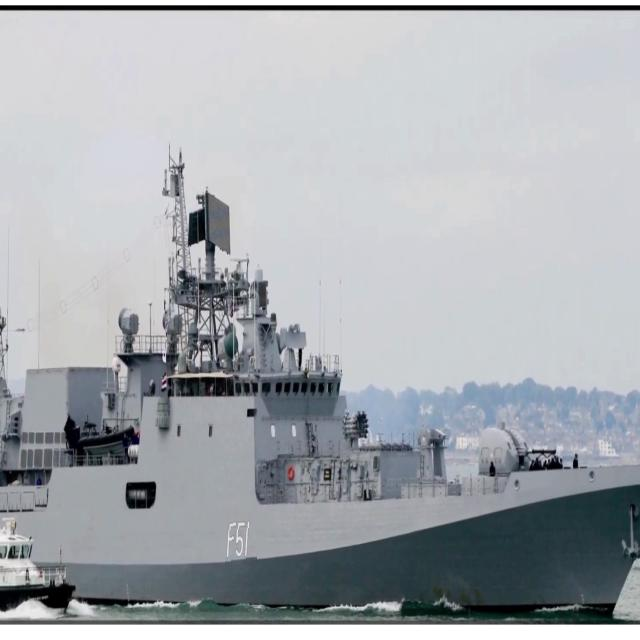OCR: (226, 516, 260, 568)
